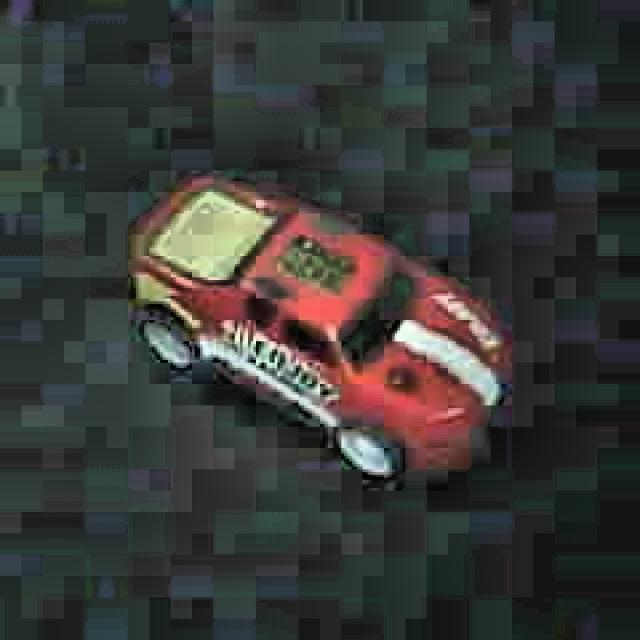car: (126, 169, 519, 485)
